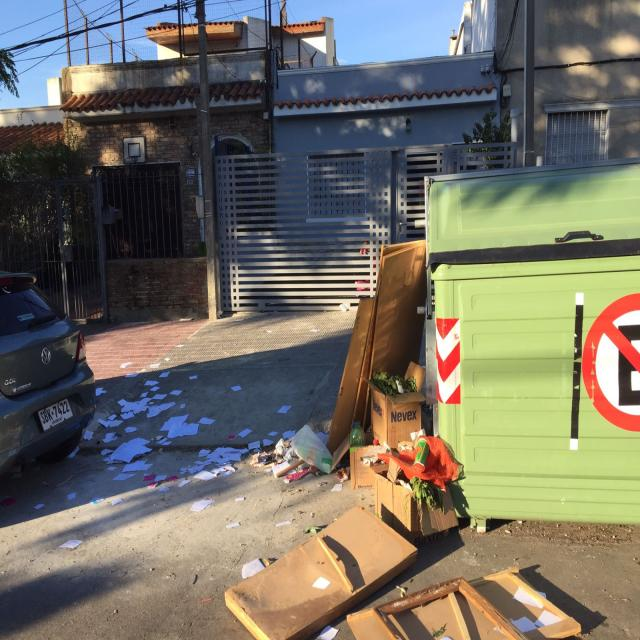garbage: (219, 507, 416, 640), (322, 233, 433, 441), (333, 554, 586, 640), (350, 438, 468, 535), (244, 419, 340, 492)
